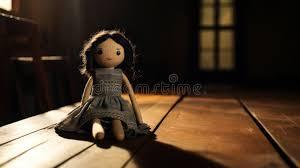doll: (55, 30, 155, 144)
